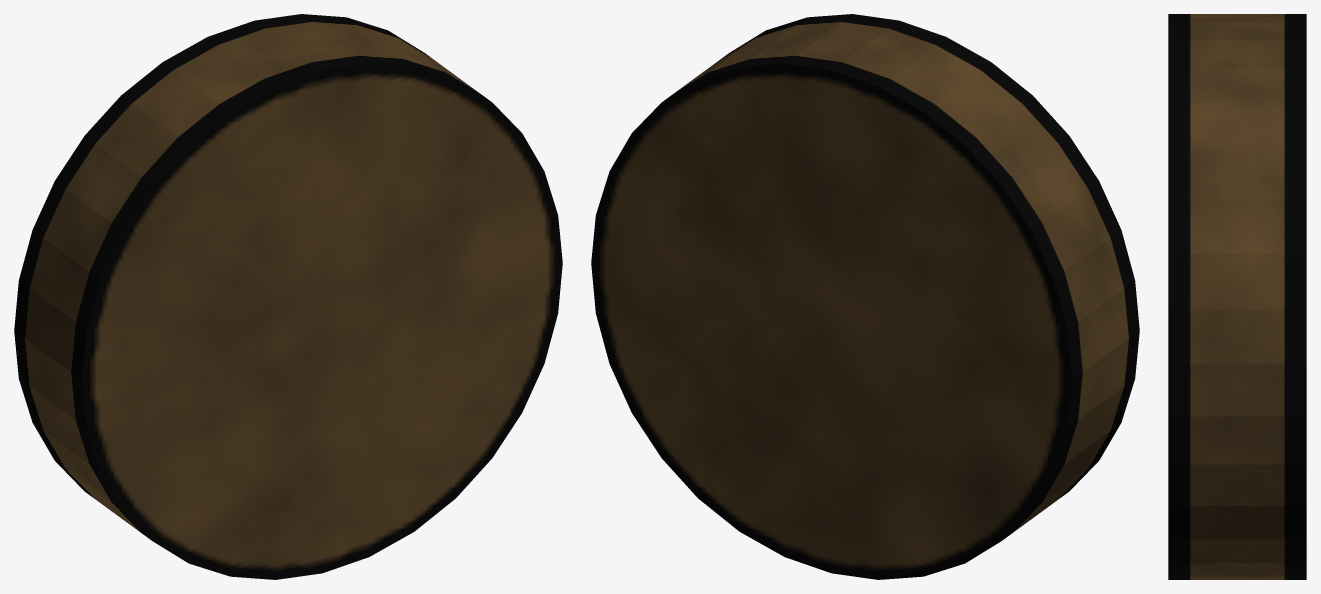
Rendered from Hanger _ pin retaining head__n4.glb.
The picture shows the model from 3 angles, left to right: view 1: azimuth 30°, elevation 25°; view 2: azimuth 150°, elevation 25°; view 3: azimuth 270°, elevation 25°; orthographic projection. The views are drawn at different scales.
Visible parts, largest first — view 1: Hanger | pin retaining head; view 2: Hanger | pin retaining head; view 3: Hanger | pin retaining head.
Boxes of the visible parts, <box> form: Hanger | pin retaining head: <box>14,14,562,579</box>; Hanger | pin retaining head: <box>591,14,1139,579</box>; Hanger | pin retaining head: <box>1168,14,1306,579</box>.
Bounding box in the file's own units: 0.09 × 0.09 × 0.022.
1 material, 1 textured.
